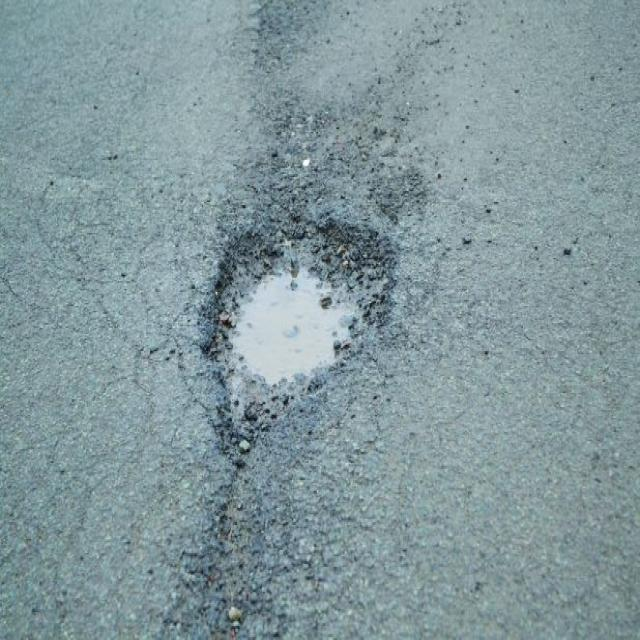pothole: (198, 208, 400, 444)
